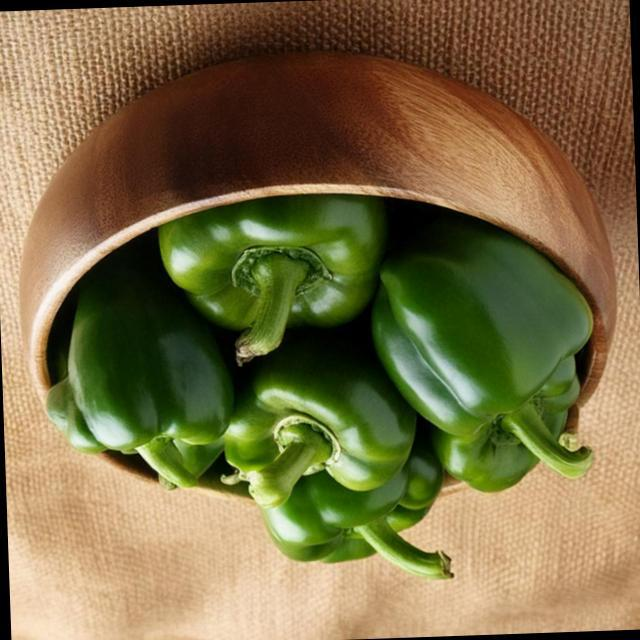Capsicum: (377, 215, 595, 476), (55, 246, 234, 466), (160, 193, 388, 350), (225, 327, 419, 501), (252, 442, 448, 570), (48, 373, 106, 455)
